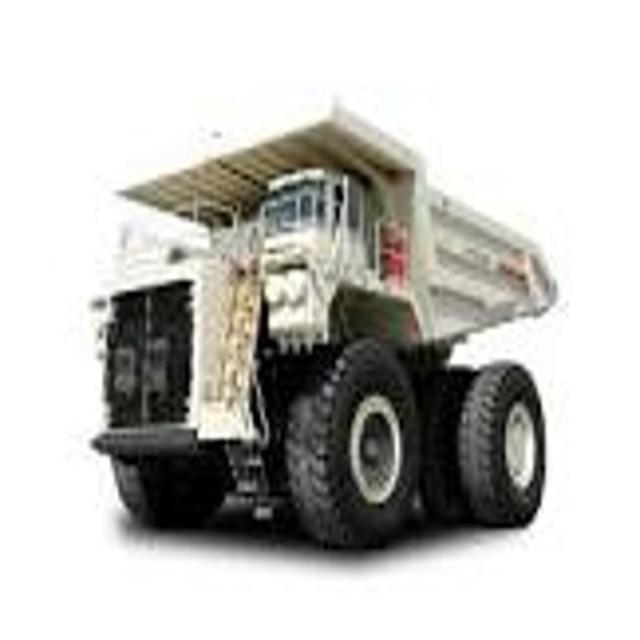dump_truck: (105, 91, 556, 560)
